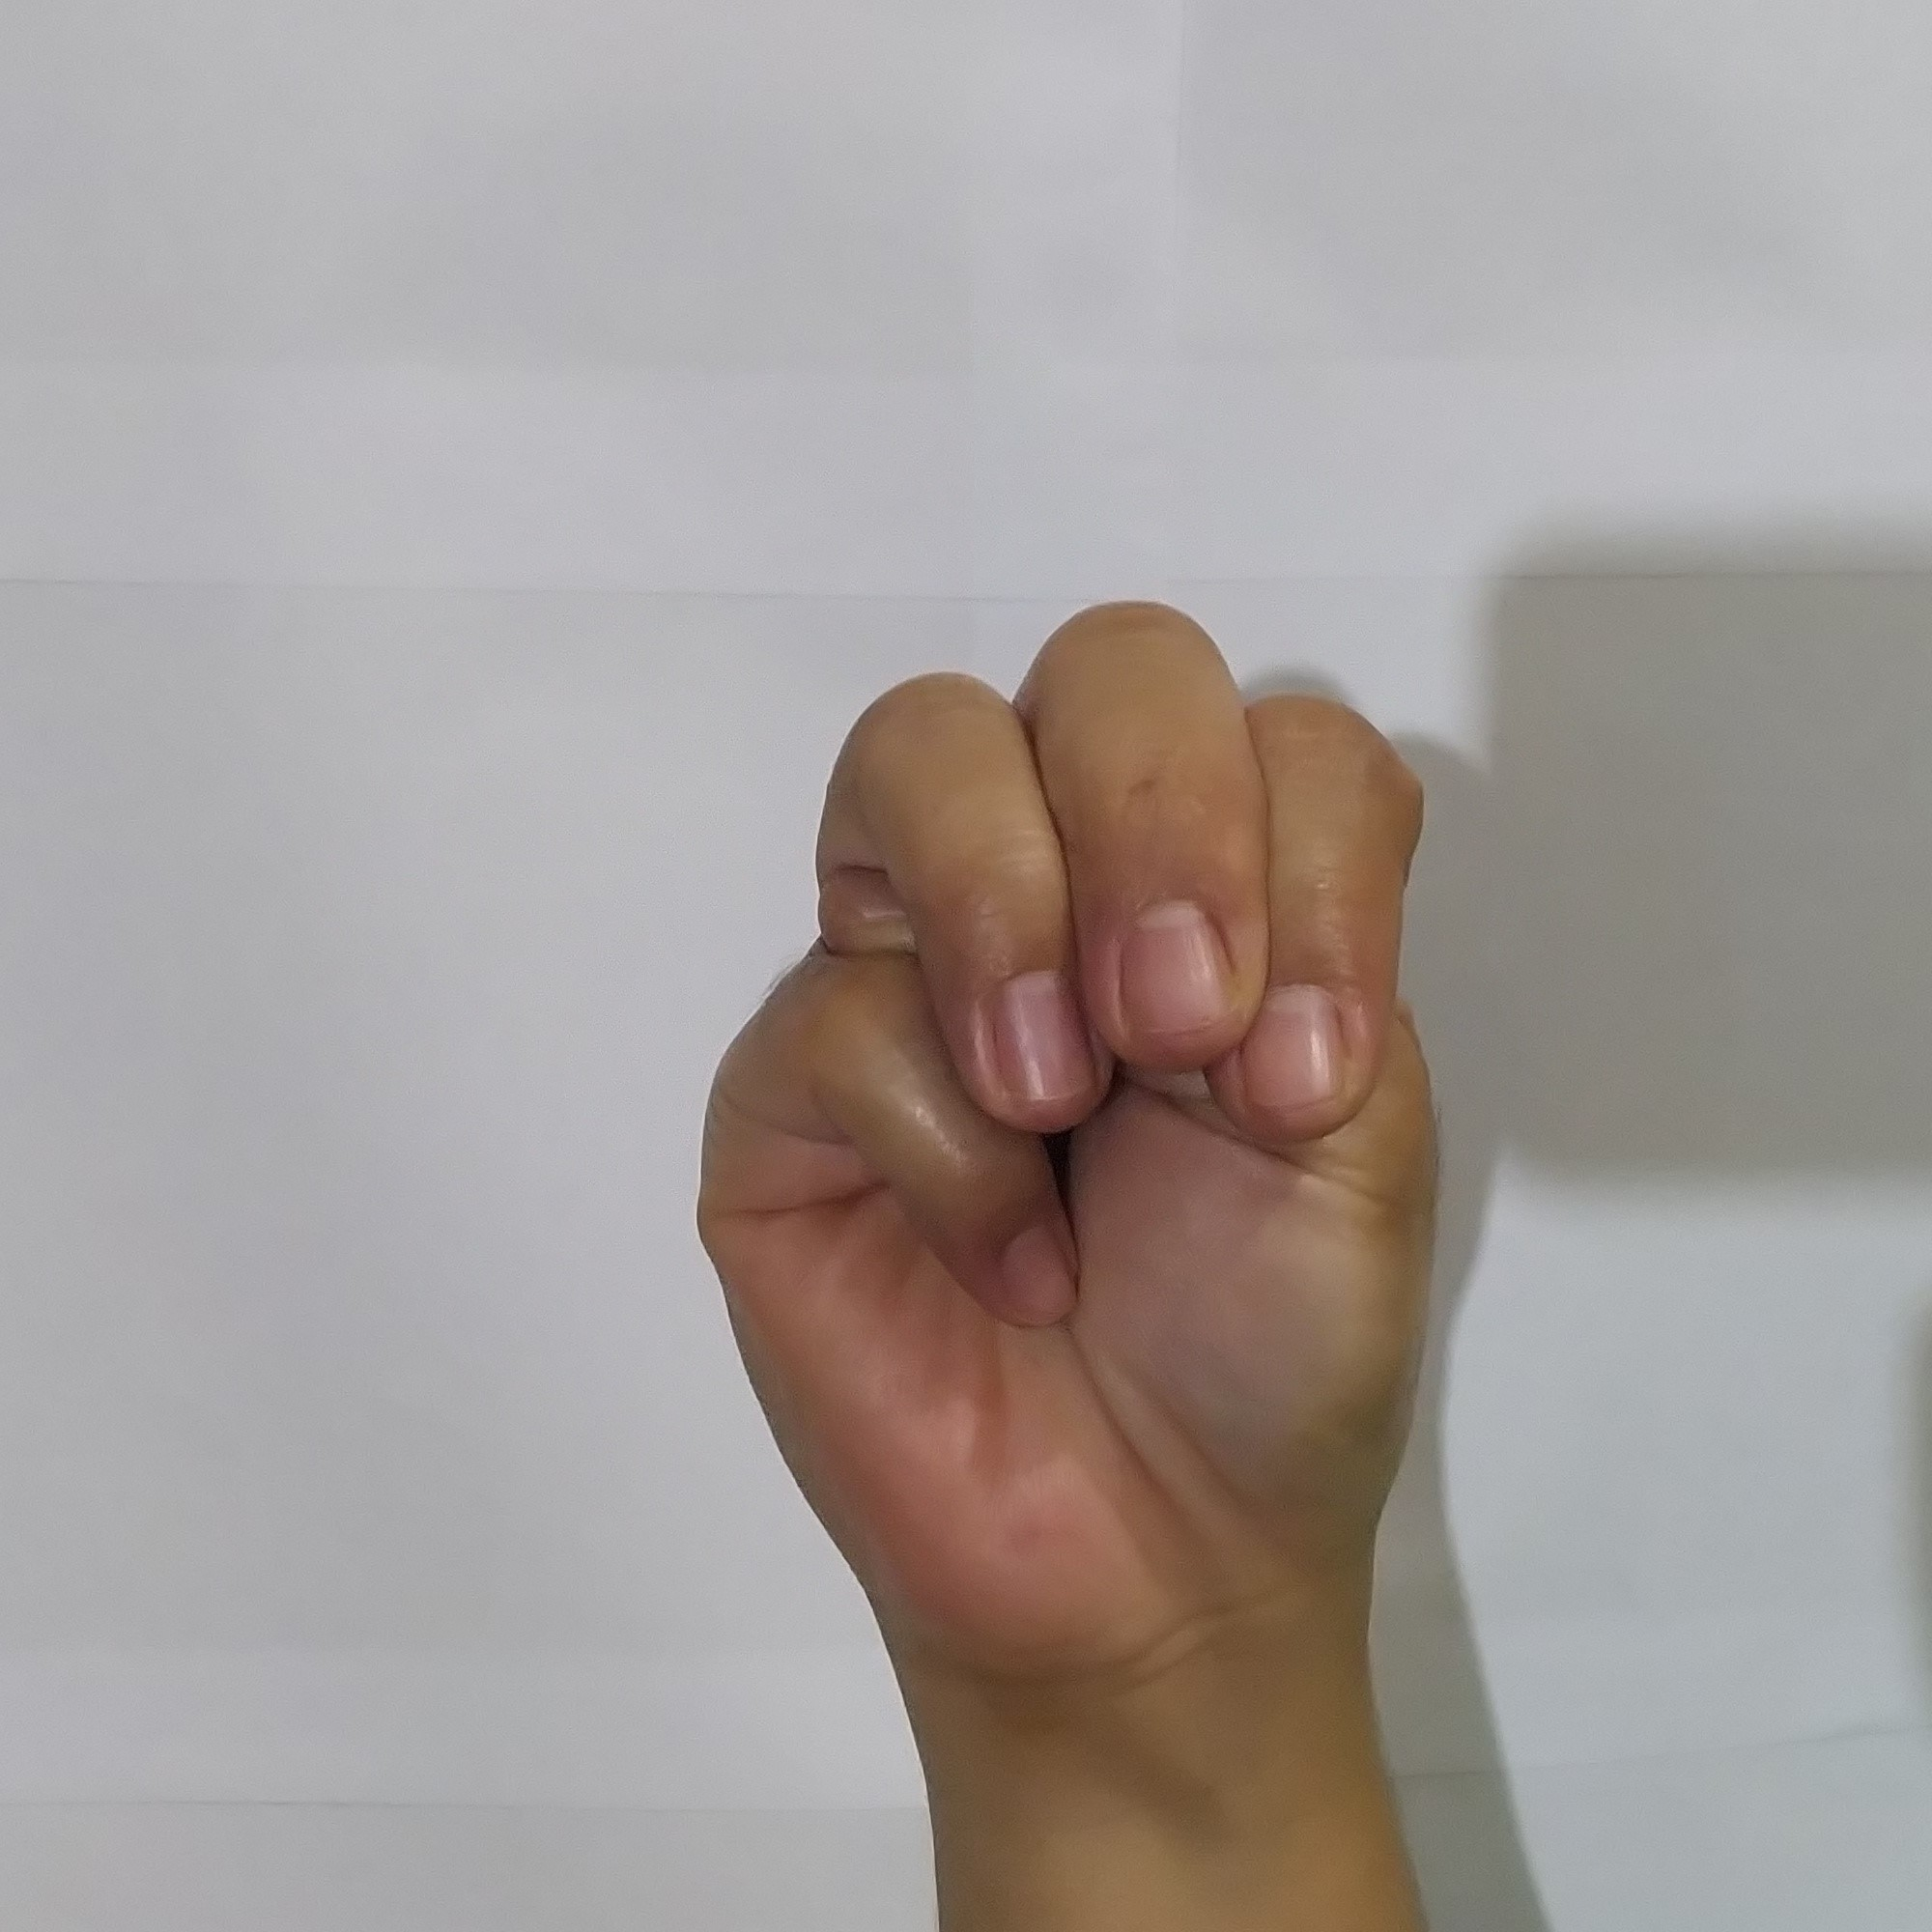M: (655, 568, 1472, 1614)
